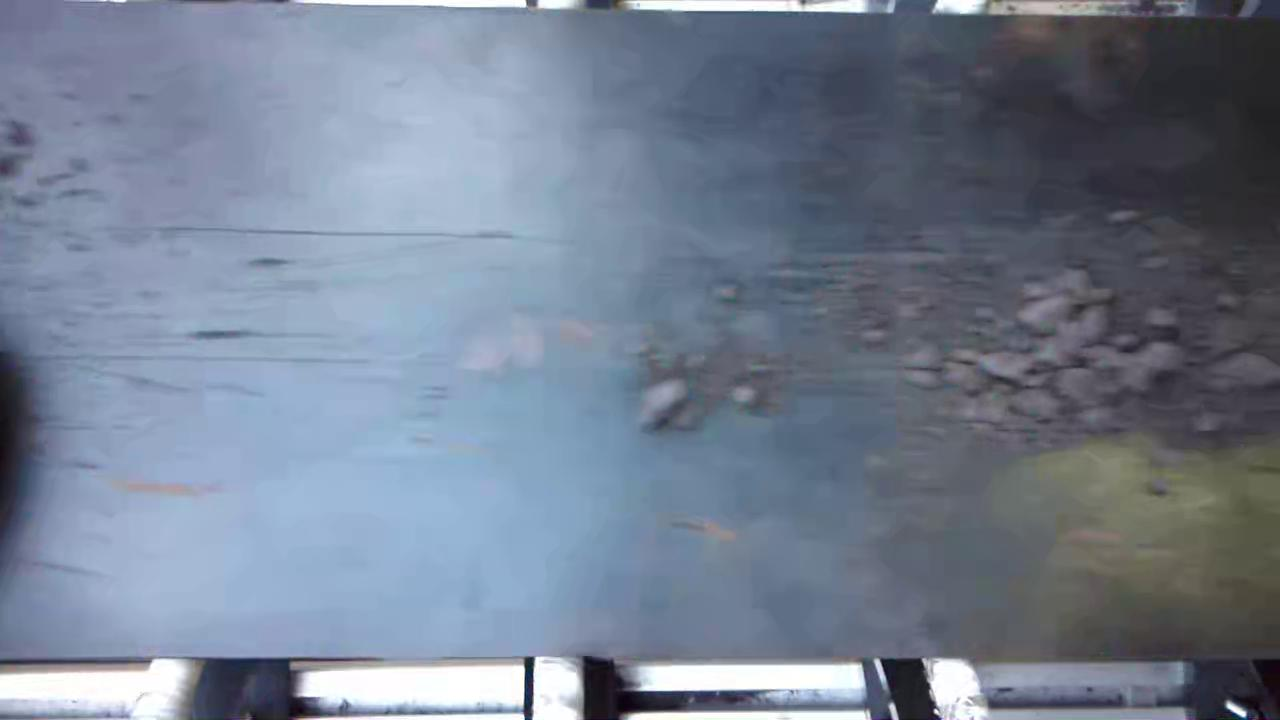conveyor: (4, 11, 1274, 651)
